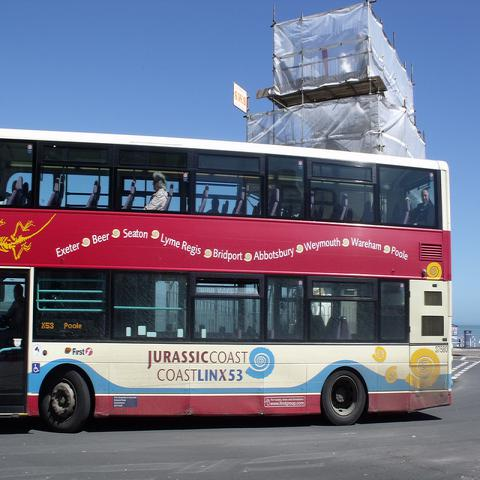bus: (0, 126, 455, 435)
